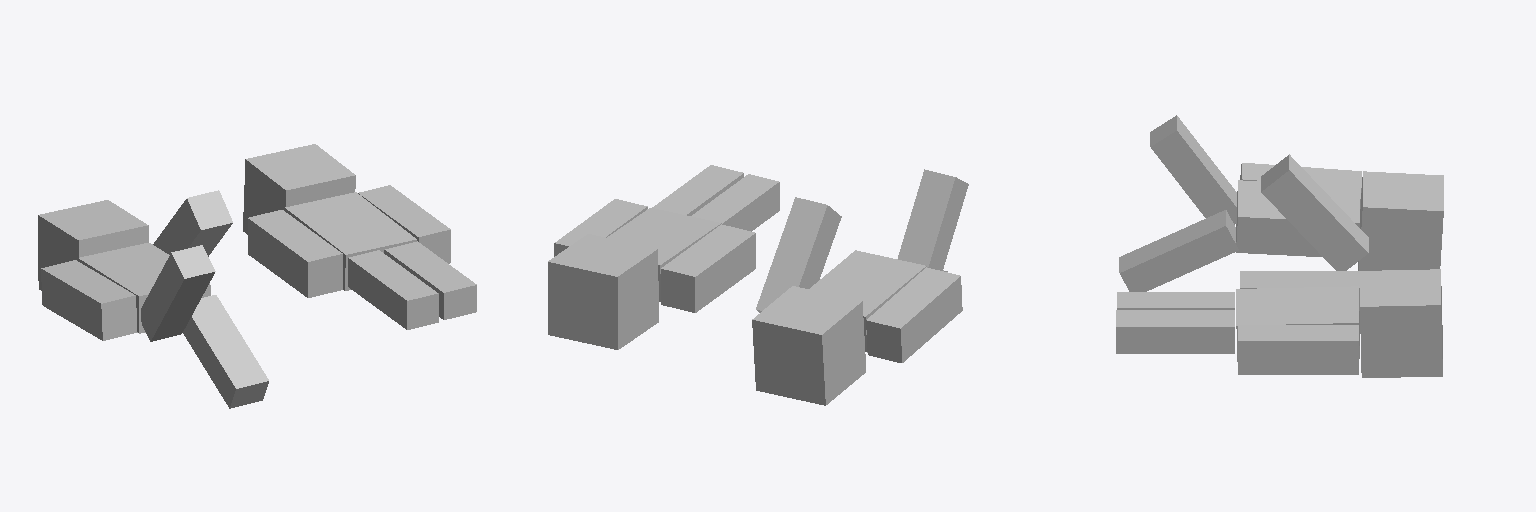
Rendered from steve_000015.obj.
3 views of the same model, side by side, from view 1: azimuth 30°, elevation 25°; view 2: azimuth 150°, elevation 25°; view 3: azimuth 270°, elevation 25° (orthographic).
Parts seen in each view (by area): view 1: Cube.001_Cube.002, Cube_Cube.001; view 2: Cube_Cube.001, Cube.001_Cube.002; view 3: Cube.001_Cube.002, Cube_Cube.001.
Boxes of the visible parts, x1,y1,x2,y2 form: Cube.001_Cube.002: [243, 144, 476, 329]; Cube_Cube.001: [38, 190, 268, 408]; Cube_Cube.001: [752, 169, 968, 405]; Cube.001_Cube.002: [548, 165, 779, 349]; Cube.001_Cube.002: [1116, 269, 1442, 377]; Cube_Cube.001: [1119, 115, 1443, 291].
Size of the model in its own units: 6.55 by 2.68 by 5.36.